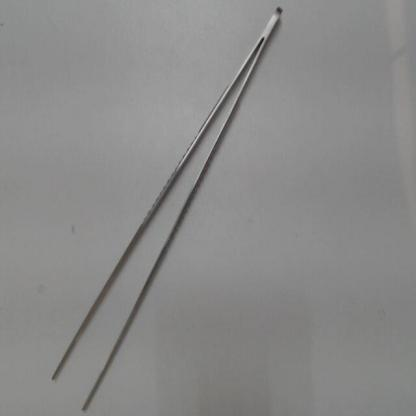DeBakey Dissector: (41, 0, 285, 408)
